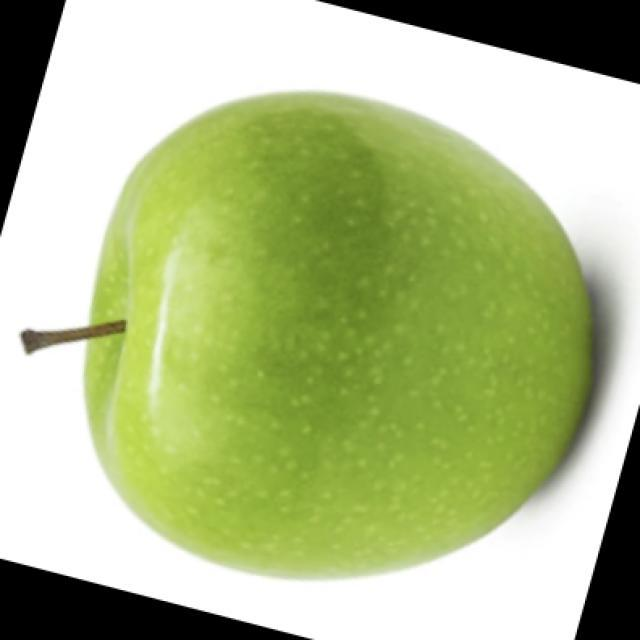Fresh Apple: (71, 89, 612, 568)
